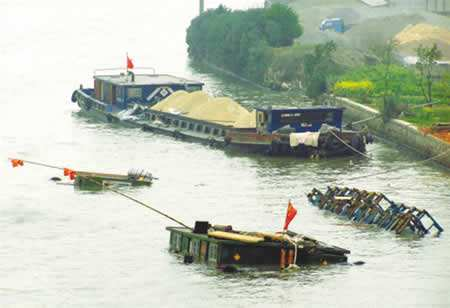boat: (76, 63, 380, 160)
